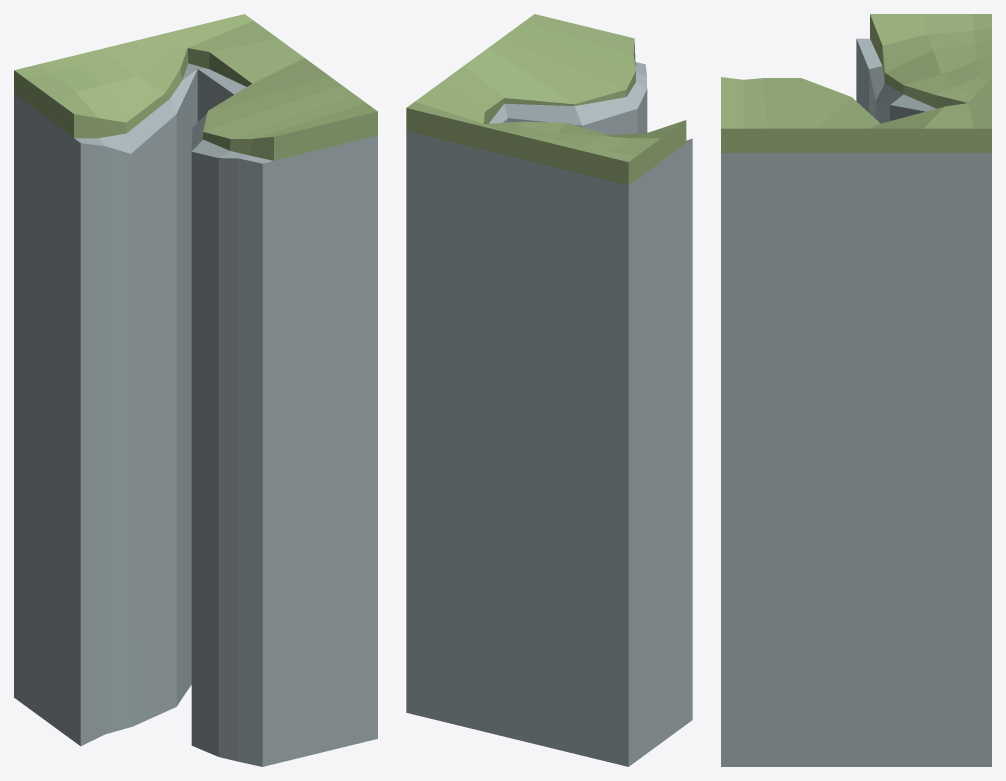
Rendered from Dual_Grid_L_L_L_W_02.fbx.
The picture shows the model from 3 angles, left to right: view 1: azimuth 30°, elevation 25°; view 2: azimuth 150°, elevation 25°; view 3: azimuth 270°, elevation 25°; orthographic projection. The views are drawn at different scales.
Parts seen in each view (by area): view 1: Tile_L_L_L_W_02; view 2: Tile_L_L_L_W_02; view 3: Tile_L_L_L_W_02.
Boxes of the visible parts, x1,y1,x2,y2 form: Tile_L_L_L_W_02: (14,14,377,766); Tile_L_L_L_W_02: (406,14,692,766); Tile_L_L_L_W_02: (721,14,991,766).
Bounding box in the file's own units: 100 × 100 × 260.
